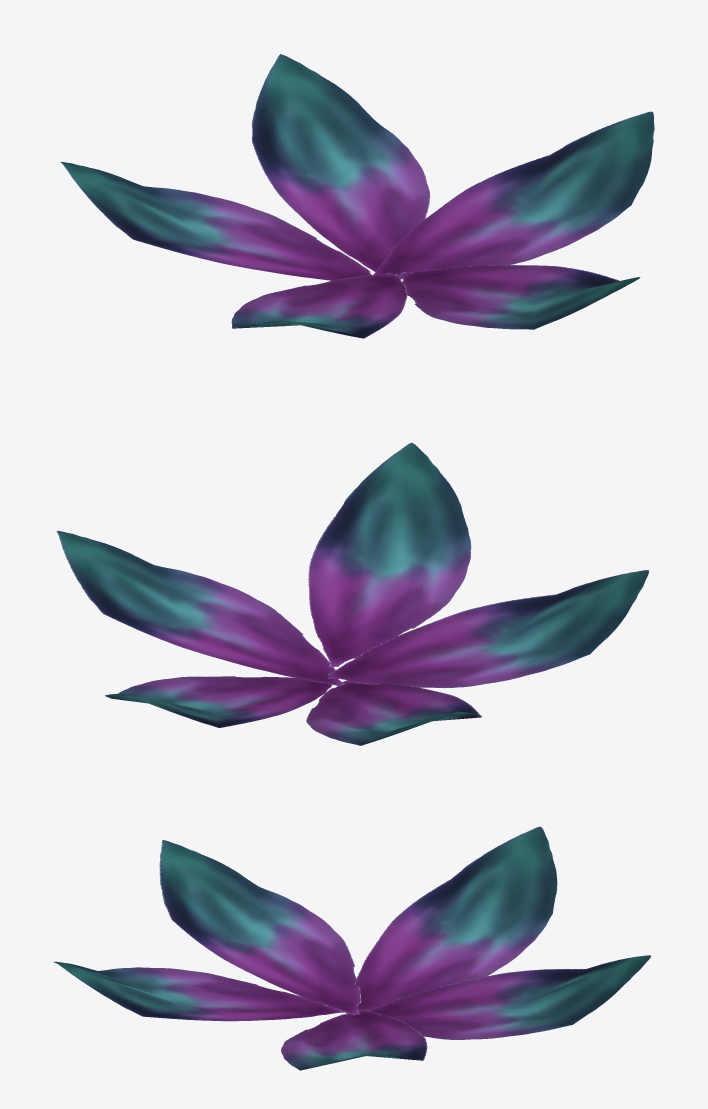
The model's file is Petals Done.fbx.
The picture shows the model from 3 angles, top to bottom: view 1: azimuth 30°, elevation 25°; view 2: azimuth 150°, elevation 25°; view 3: azimuth 270°, elevation 25°; orthographic projection. The views are drawn at different scales.
Visible parts, largest first — view 1: pPlane5, pPlane6, pPlane4, pPlane2, pPlane3; view 2: pPlane2, pPlane3, pPlane6, pPlane5, pPlane4; view 3: pPlane4, pPlane3, pPlane5, pPlane2, pPlane6.
Part boxes in pixels (x1,y1,x2,y2): pPlane5: [251, 54, 430, 271]; pPlane6: [372, 111, 654, 279]; pPlane4: [60, 161, 371, 281]; pPlane2: [398, 265, 640, 329]; pPlane3: [231, 272, 407, 338]; pPlane2: [308, 442, 471, 667]; pPlane3: [327, 570, 648, 687]; pPlane6: [56, 531, 344, 686]; pPlane5: [105, 676, 332, 727]; pPlane4: [306, 680, 481, 745]; pPlane4: [346, 826, 557, 1013]; pPlane3: [159, 840, 360, 1015]; pPlane5: [368, 955, 651, 1039]; pPlane2: [53, 961, 345, 1021]; pPlane6: [281, 1009, 427, 1070].
Size of the model in its own units: 2.05 by 0.4448 by 2.29.
1 material, 1 textured.
